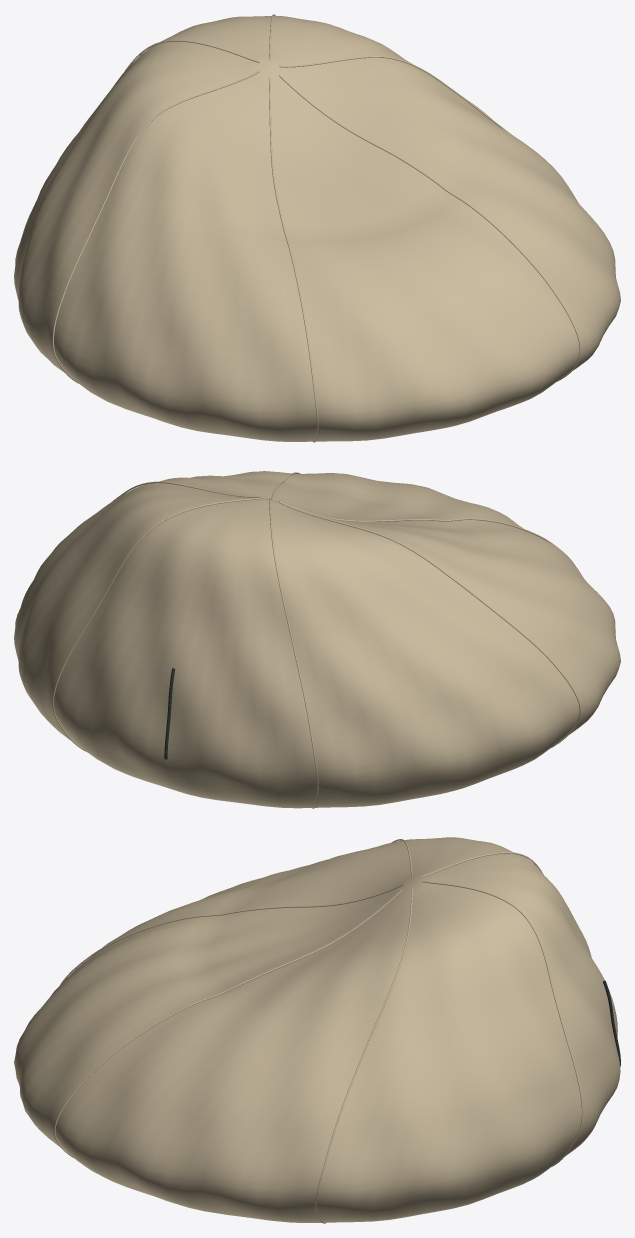
Rendered from beanbag-2.glb.
The picture shows the model from 3 angles, top to bottom: view 1: azimuth 30°, elevation 25°; view 2: azimuth 150°, elevation 25°; view 3: azimuth 270°, elevation 25°; orthographic projection.
Parts seen in each view (by area): view 1: Beanbag fabric panels, Stitched panel seam.005, Stitched panel seam.003, Stitched panel seam.004; view 2: Beanbag fabric panels, Stitched panel seam.003, Stitched panel seam.001, Stitched panel seam.002, Stitched panel seam.004; view 3: Beanbag fabric panels, Stitched panel seam.005, Stitched panel seam.001, Stitched panel seam, Stitched panel seam.004.
Boxes of the visible parts, x1,y1,x2,y2 form: Beanbag fabric panels: (14,15,620,441); Stitched panel seam.005: (279,75,580,381); Stitched panel seam.003: (52,70,259,383); Stitched panel seam.004: (269,77,318,442); Beanbag fabric panels: (14,471,620,808); Stitched panel seam.003: (279,502,581,747); Stitched panel seam.001: (52,497,259,751); Stitched panel seam.002: (269,500,318,808); Stitched panel seam.004: (279,501,575,565); Beanbag fabric panels: (14,837,620,1222); Stitched panel seam.005: (54,889,402,1157); Stitched panel seam.001: (422,880,583,1166); Stitched panel seam: (315,887,413,1223); Stitched panel seam.004: (60,884,403,984).
Bounding box in the file's own units: 0.946 × 0.4661 × 0.9436.
